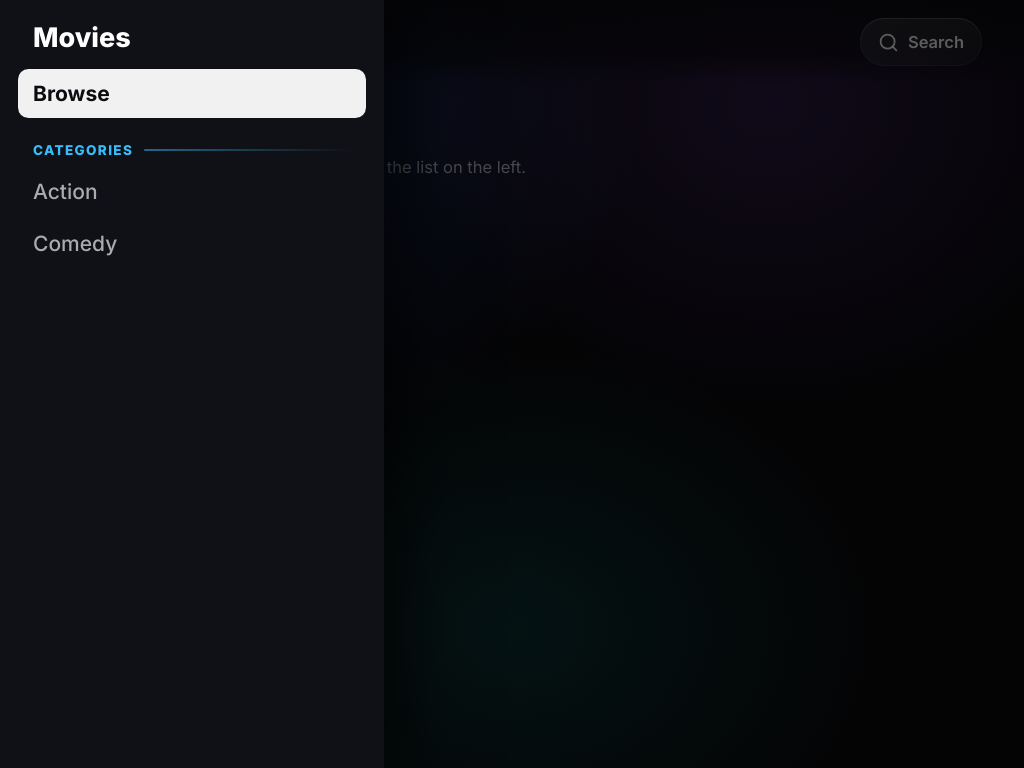
Test: VodScreen while the movie table is still being built › picking a category meanwhile fetches just that category from the provider
The image size is (1024, 768).
Click the button "Action": (65, 192) [18,167,366,216]
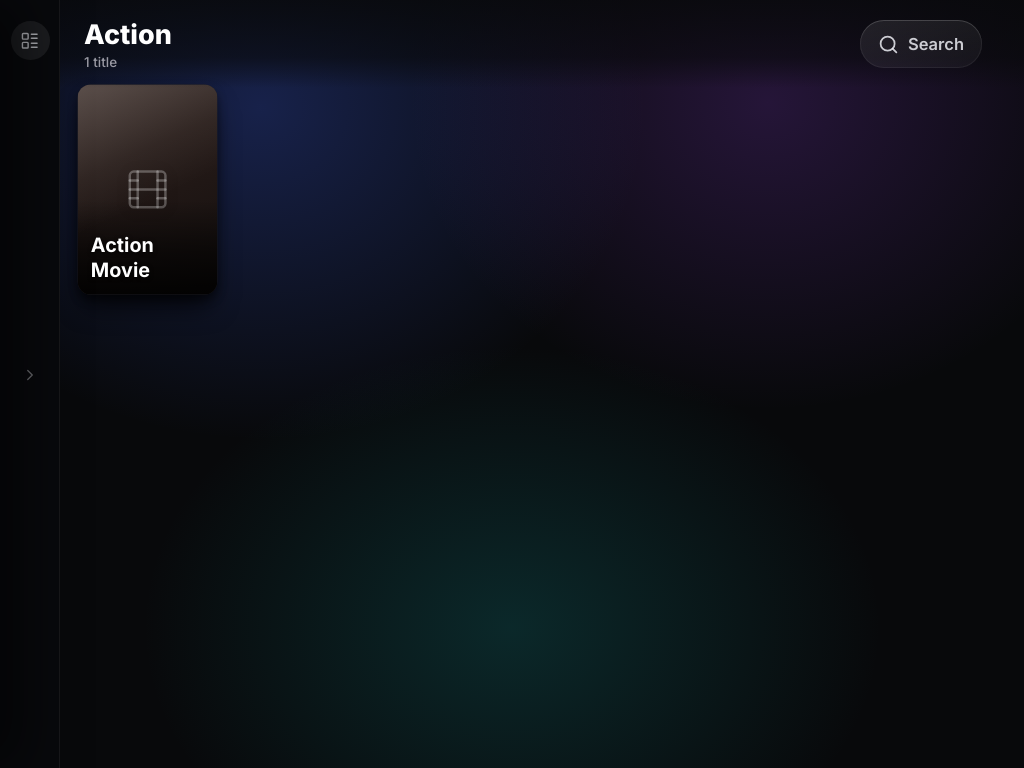
expect the text "Action Movie" is shown: met, box [91,233,154,281]
